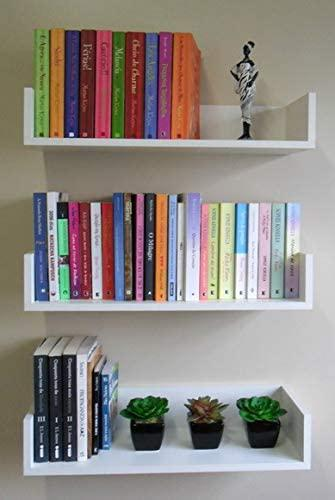book: (205, 210, 217, 299), (37, 32, 47, 137), (36, 360, 46, 460), (37, 194, 46, 300), (84, 32, 93, 135), (71, 34, 80, 136), (131, 35, 140, 136), (224, 207, 233, 299), (160, 198, 168, 298), (191, 199, 199, 298), (54, 362, 62, 461), (275, 209, 284, 296), (238, 204, 246, 299), (101, 34, 108, 137), (72, 210, 80, 300), (55, 34, 62, 136), (93, 207, 101, 294), (276, 209, 284, 296), (105, 208, 112, 294), (78, 359, 84, 459), (162, 36, 168, 135), (148, 201, 154, 296), (116, 202, 122, 297), (265, 210, 271, 299), (150, 34, 155, 139), (139, 199, 143, 299)
